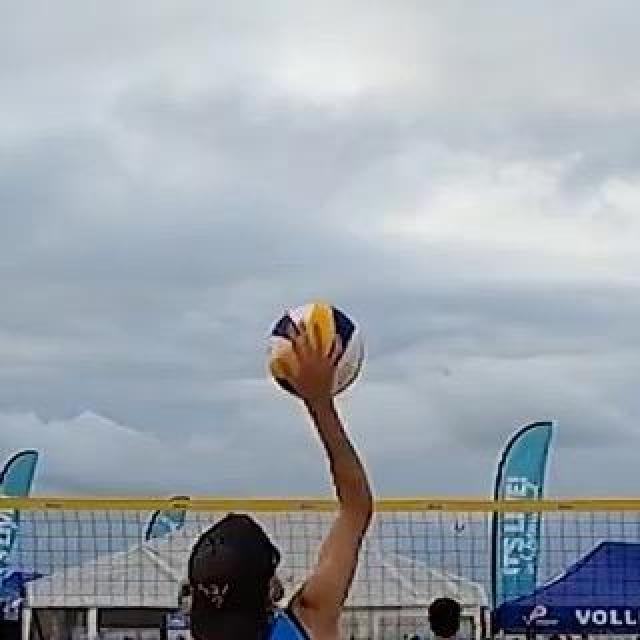volleyball: (269, 301, 363, 399)
